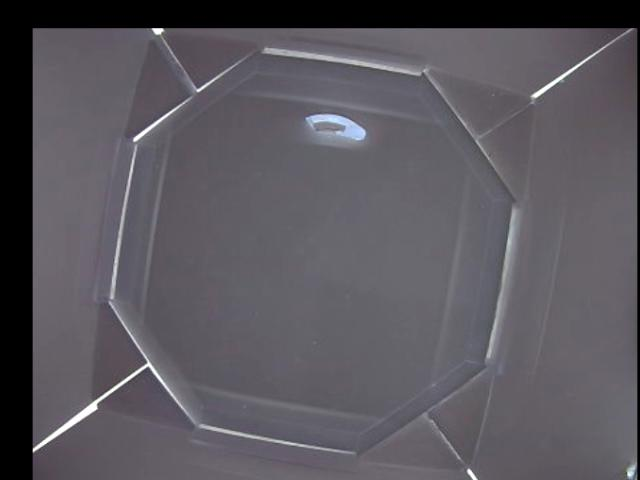China: (307, 111, 369, 147)
